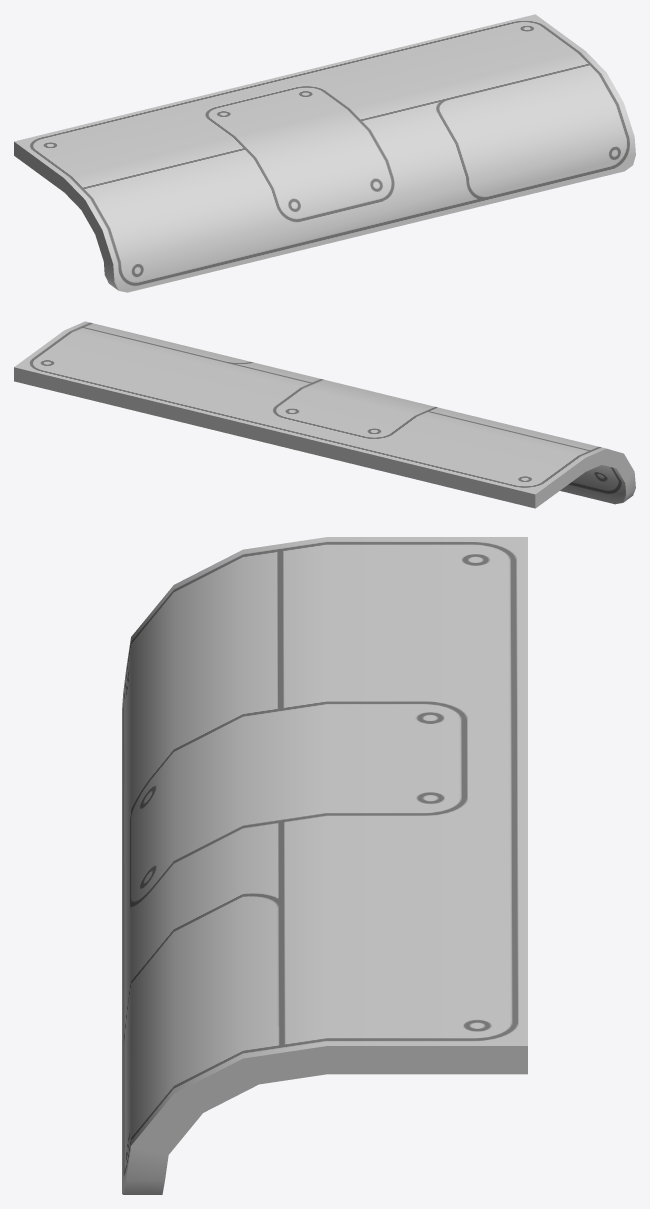
File: ASA.fbx
3 renders of one model, top to bottom at view 1: azimuth 30°, elevation 25°; view 2: azimuth 150°, elevation 25°; view 3: azimuth 270°, elevation 25°, orthographic. The views are drawn at different scales.
Visible parts, largest first — view 1: polySurface28; view 2: polySurface28; view 3: polySurface28.
Boxes of the visible parts, x1,y1,x2,y2 form: polySurface28: (14,14,635,292); polySurface28: (14,321,635,508); polySurface28: (122,537,527,1194).
Size of the model in its own units: 5.42 by 0.7935 by 1.83.
1 material, 1 textured.
